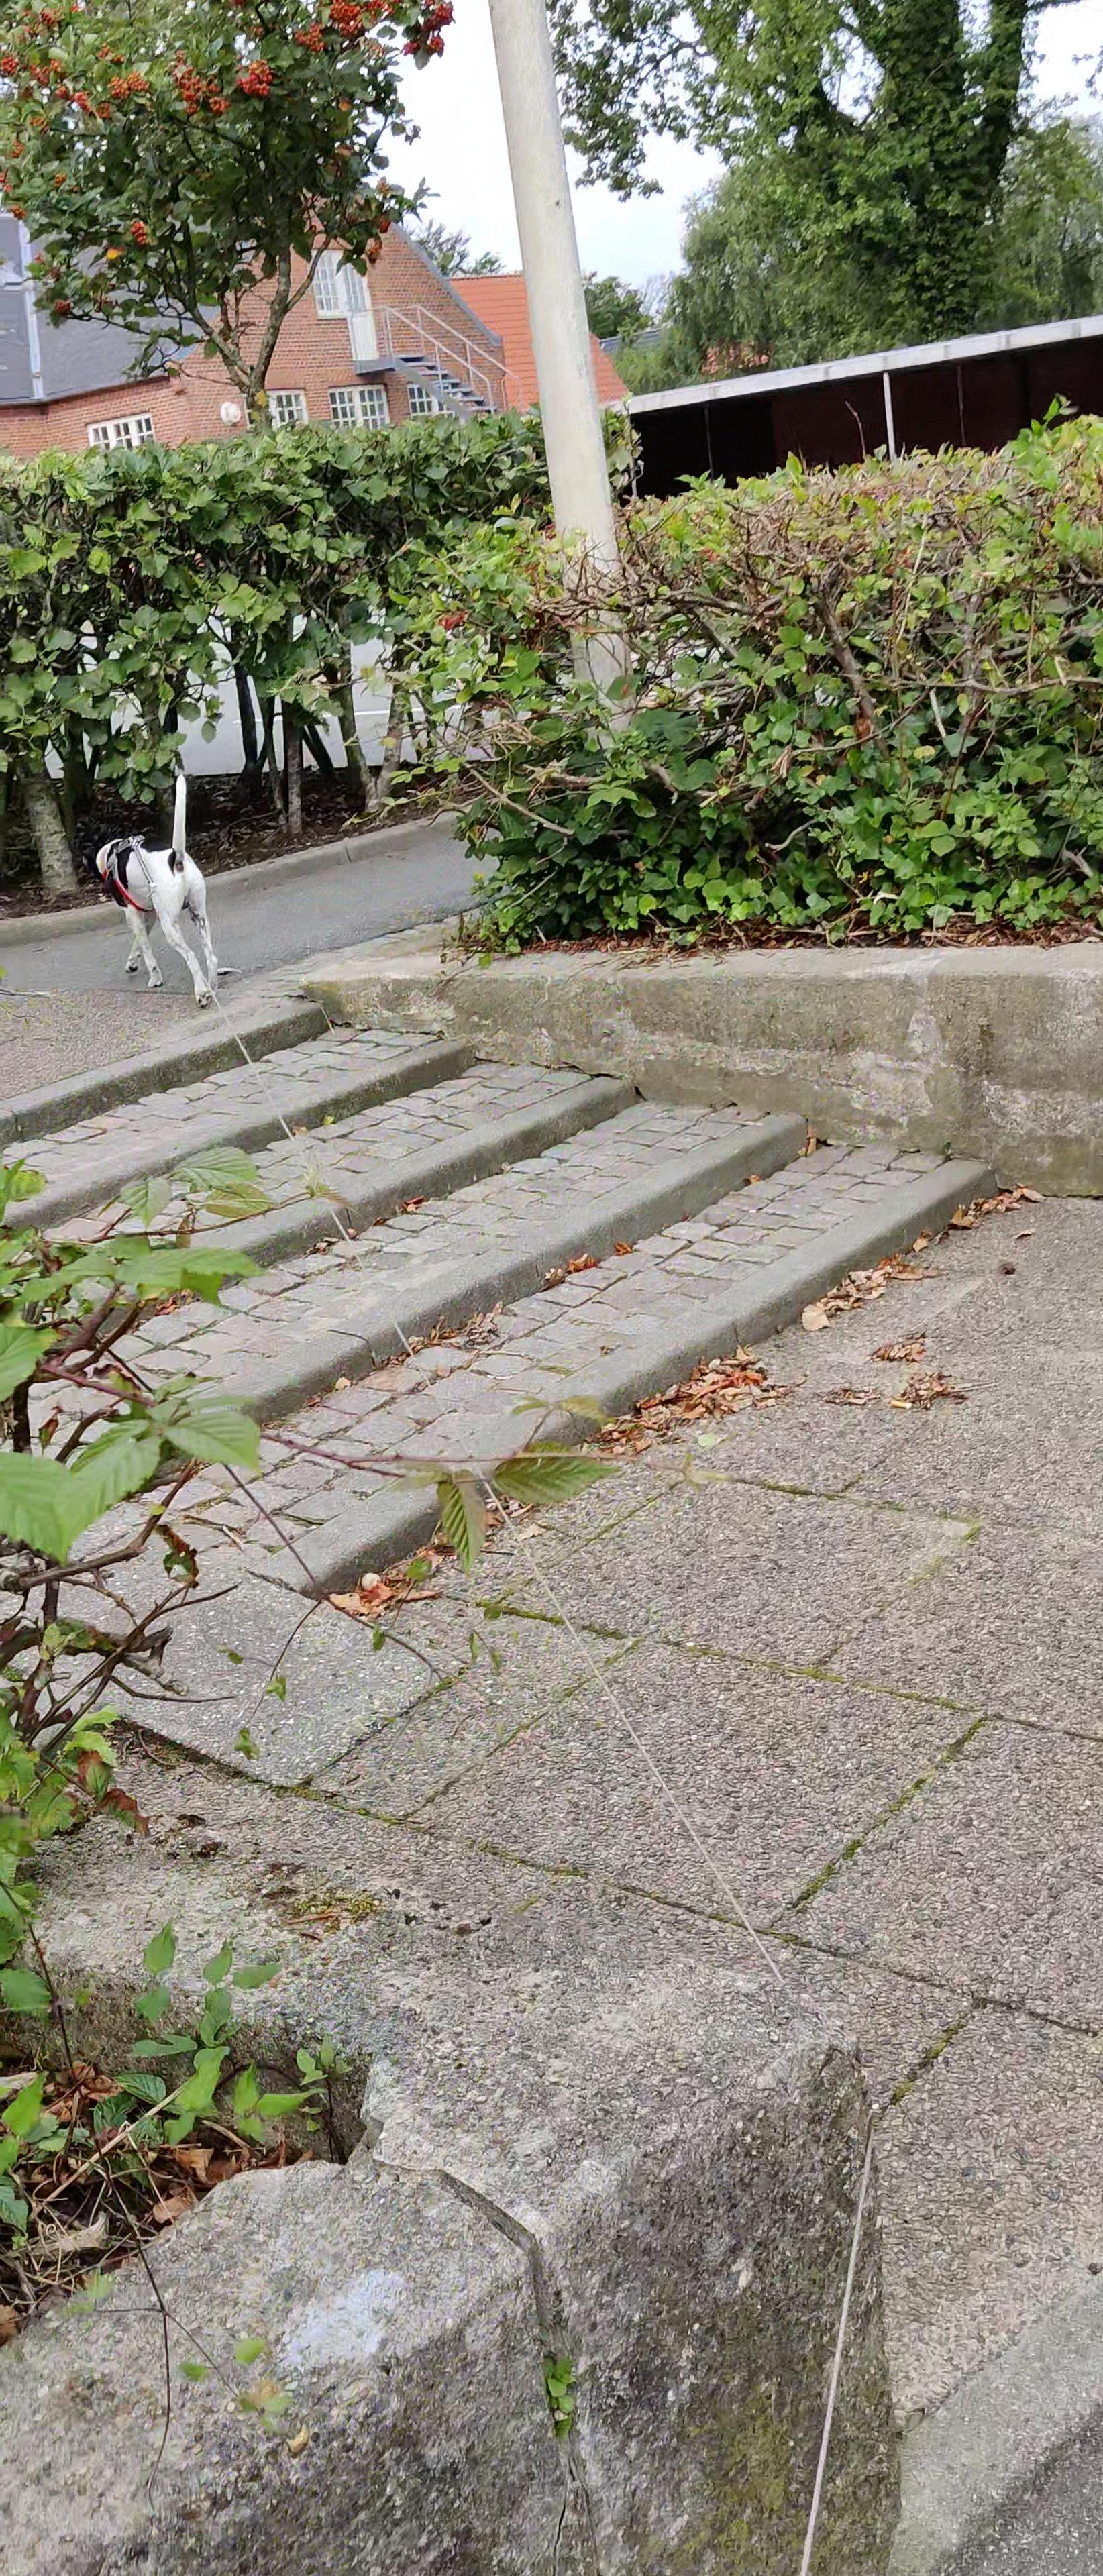Dog: (74, 775, 232, 1010)
